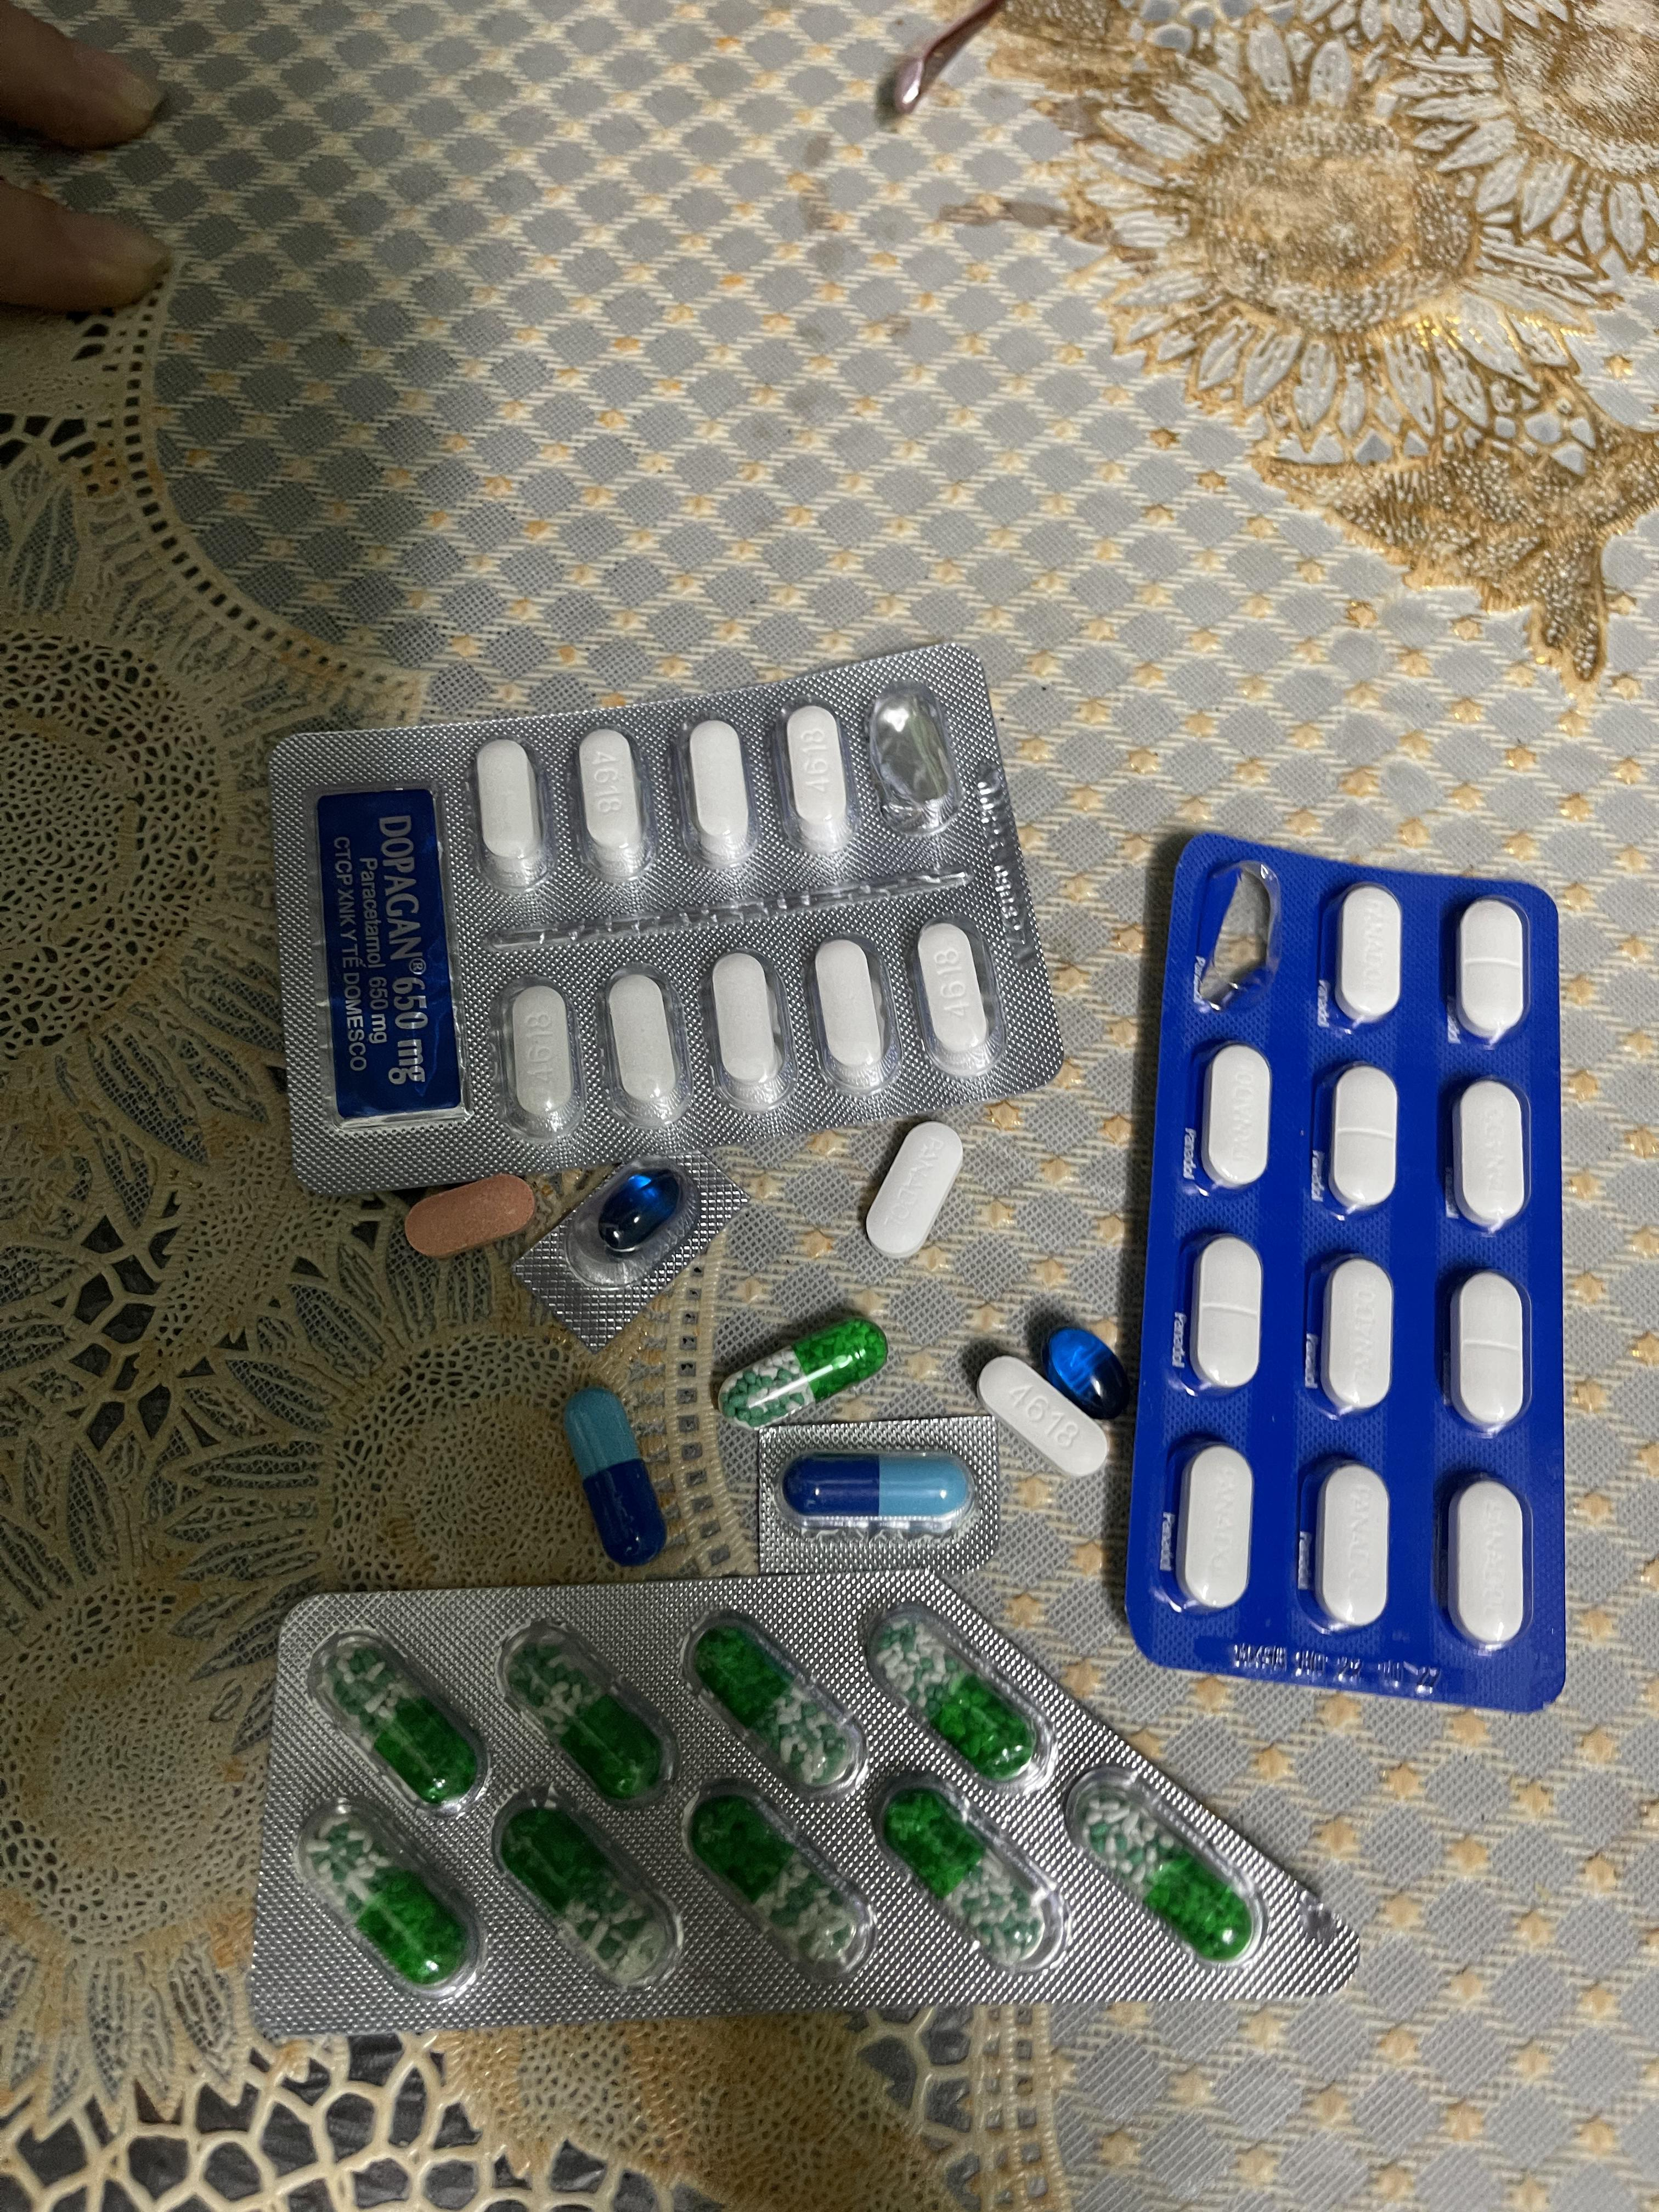Lincomyxin_500mg: (1042, 1325, 1126, 1420), (596, 1169, 685, 1254)
Loratadine_10mg: (401, 1174, 533, 1258)
Paracetamol_350mg: (863, 1118, 972, 1258), (1446, 1479, 1528, 1649), (1312, 1463, 1394, 1630), (1171, 1444, 1251, 1615), (1450, 1271, 1530, 1433), (1319, 1258, 1398, 1421), (1187, 1237, 1263, 1393), (1452, 1080, 1530, 1233), (1328, 1064, 1403, 1214), (1199, 1043, 1272, 1191), (1455, 899, 1528, 1038), (1331, 885, 1403, 1024)
Paracetamol_500mg: (976, 1355, 1107, 1479), (917, 923, 993, 1069), (711, 951, 786, 1099), (812, 941, 887, 1087), (608, 972, 681, 1118), (577, 730, 648, 878), (784, 707, 852, 857), (688, 718, 755, 869), (476, 740, 545, 883), (509, 986, 573, 1123)
Paracetamol_650mg: (678, 1773, 877, 1986), (491, 1784, 683, 1991), (296, 1794, 481, 1996), (873, 1773, 1058, 1973), (1084, 1764, 1251, 1972), (873, 1599, 1054, 1787), (310, 1625, 491, 1810), (685, 1611, 868, 1792), (502, 1616, 678, 1796), (718, 1313, 892, 1423)
pill: (563, 1385, 666, 1561), (781, 1454, 976, 1540)
